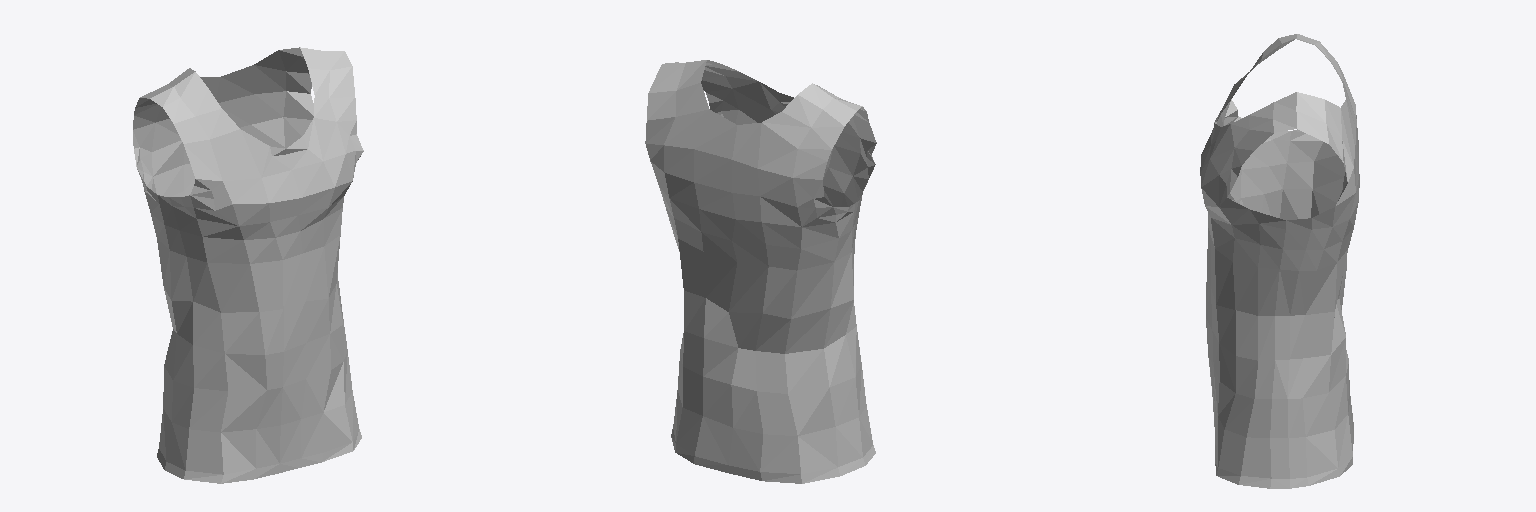
File: Tanktop2.obj
3 renders of one model, left to right at view 1: azimuth 30°, elevation 25°; view 2: azimuth 150°, elevation 25°; view 3: azimuth 270°, elevation 25°, orthographic.
Visible parts, largest first — view 1: shirt_lp; view 2: shirt_lp; view 3: shirt_lp.
Part boxes in pixels (x1,y1,x2,y2): shirt_lp: (133,47,363,483); shirt_lp: (645,60,876,483); shirt_lp: (1200,34,1359,488).
Bounding box in the file's own units: 498 × 933 × 352.